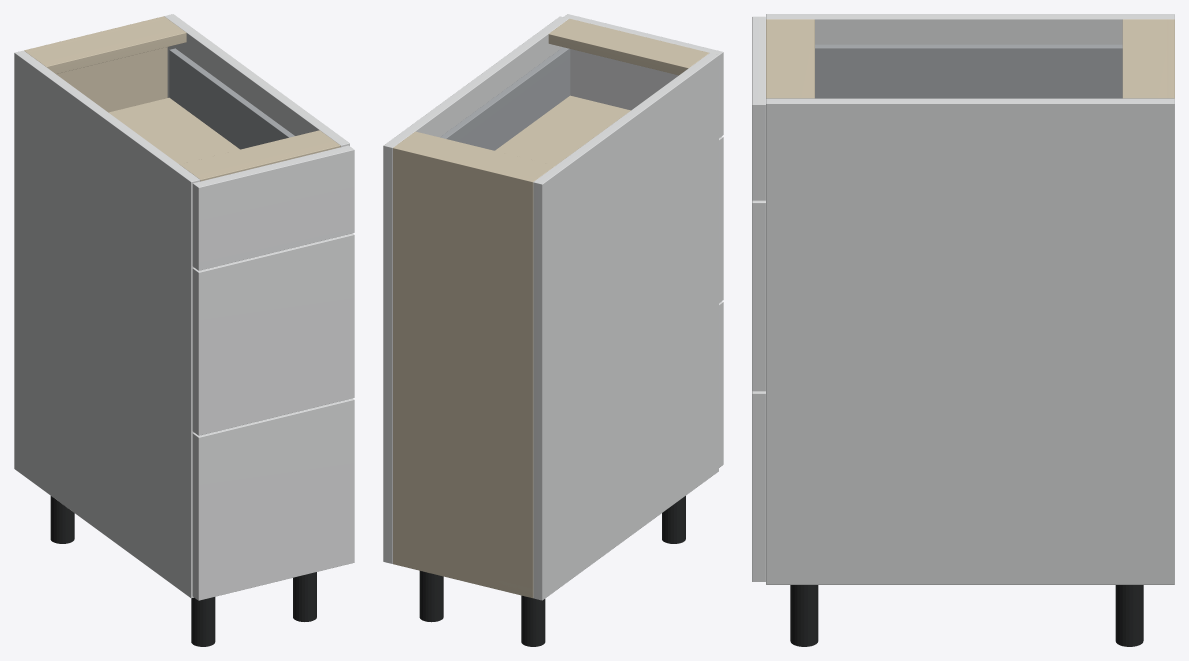
The model's file is oppein-ply-pgw-3db12.glb.
The picture shows the model from 3 angles, left to right: view 1: azimuth 30°, elevation 25°; view 2: azimuth 150°, elevation 25°; view 3: azimuth 270°, elevation 25°; orthographic projection. The views are drawn at different scales.
Visible parts, largest first — view 1: Cabinet side, Drawer front, Drawer front.001, Drawer front.002, Drawer side.005, Cabinet back, Cabinet side.001, Drawer floor.002, Top support rail, Top support rail.001, Adjustable foot.001, Adjustable foot.003 (+1 smaller); view 2: Cabinet side, Cabinet back, Cabinet side.001, Drawer side.005, Drawer front.002, Drawer floor.002, Top support rail.001, Top support rail, Adjustable foot, Adjustable foot.002, Adjustable foot.001, Drawer front.001 (+1 smaller); view 3: Cabinet side.001, Drawer side.004, Cabinet side, Top support rail.001, Top support rail, Drawer front.001, Drawer front, Drawer front.002, Adjustable foot.002, Adjustable foot.003, Cabinet back.
Part boxes in pixels (bbox=[...]): Cabinet side: bbox=[14, 50, 200, 598]; Drawer front: bbox=[192, 398, 354, 600]; Drawer front.001: bbox=[192, 233, 354, 435]; Drawer front.002: bbox=[192, 145, 354, 270]; Drawer side.005: bbox=[169, 48, 294, 149]; Cabinet back: bbox=[24, 16, 167, 112]; Cabinet side.001: bbox=[164, 14, 349, 146]; Drawer floor.002: bbox=[108, 97, 239, 164]; Top support rail: bbox=[25, 18, 186, 73]; Top support rail.001: bbox=[179, 130, 340, 181]; Adjustable foot.001: bbox=[191, 597, 215, 646]; Adjustable foot.003: bbox=[293, 572, 316, 621]; Cabinet side: bbox=[533, 53, 718, 600]; Cabinet back: bbox=[393, 145, 535, 597]; Cabinet side.001: bbox=[383, 16, 568, 563]; Drawer side.005: bbox=[440, 47, 570, 150]; Drawer front.002: bbox=[564, 14, 723, 137]; Drawer floor.002: bbox=[495, 95, 630, 165]; Top support rail.001: bbox=[548, 18, 709, 75]; Top support rail: bbox=[396, 131, 554, 179]; Adjustable foot: bbox=[521, 595, 545, 646]; Adjustable foot.002: bbox=[419, 571, 443, 622]; Adjustable foot.001: bbox=[662, 496, 685, 543]; Drawer front.001: bbox=[719, 136, 723, 302]; Cabinet side.001: bbox=[766, 98, 1174, 584]; Drawer side.004: bbox=[815, 44, 1122, 98]; Cabinet side: bbox=[766, 14, 1174, 44]; Top support rail.001: bbox=[766, 19, 814, 98]; Top support rail: bbox=[1122, 19, 1166, 98]; Drawer front.001: bbox=[752, 200, 765, 391]; Drawer front: bbox=[752, 391, 765, 581]; Drawer front.002: bbox=[752, 16, 765, 200]; Adjustable foot.002: bbox=[1115, 585, 1143, 646]; Adjustable foot.003: bbox=[790, 585, 818, 646]; Cabinet back: bbox=[1167, 19, 1174, 98].
Bounding box in the file's own units: 0.3048 × 0.8763 × 0.6064.
